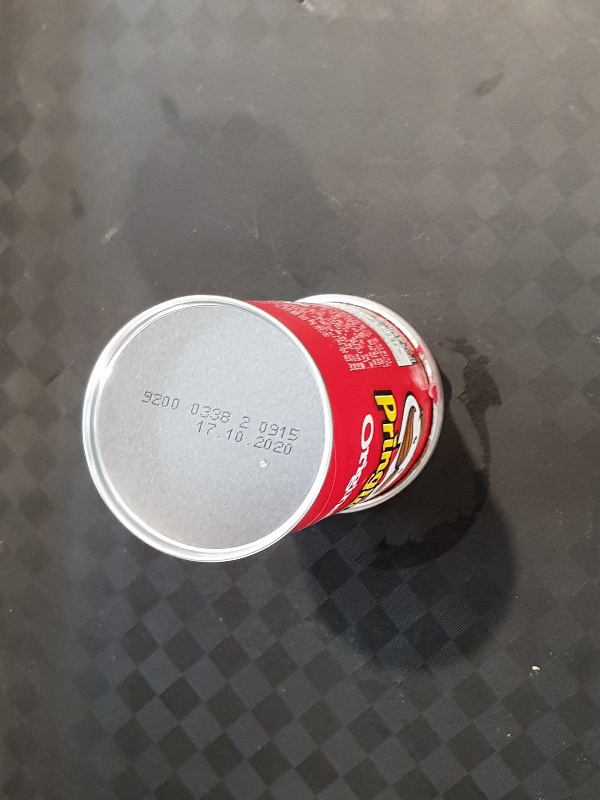Pringles Original: (80, 289, 445, 566)
